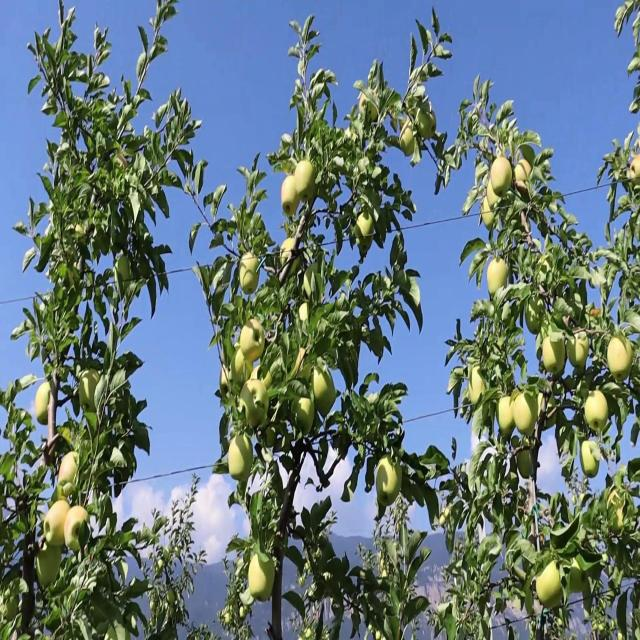apple: (240, 376, 269, 430), (248, 554, 276, 604), (228, 433, 255, 484), (376, 455, 403, 503), (64, 504, 89, 555), (536, 561, 562, 610), (608, 334, 633, 384), (512, 391, 539, 436), (584, 391, 610, 436), (240, 319, 266, 363), (48, 497, 69, 549), (376, 469, 403, 508), (544, 334, 568, 377), (316, 369, 337, 418), (40, 547, 63, 590), (380, 462, 403, 505), (488, 255, 510, 297), (292, 398, 316, 436), (80, 369, 101, 411), (568, 334, 591, 372), (492, 156, 513, 197), (240, 255, 260, 297), (296, 163, 316, 204), (60, 455, 80, 496), (496, 398, 515, 439), (312, 369, 335, 400), (36, 383, 52, 427), (584, 440, 601, 480), (284, 177, 300, 219), (528, 298, 545, 334), (316, 391, 337, 420), (544, 583, 564, 612), (480, 199, 498, 231), (516, 163, 532, 197), (400, 127, 418, 156), (236, 348, 252, 380), (520, 447, 535, 480), (420, 113, 436, 142), (568, 355, 589, 377), (356, 213, 375, 236), (472, 369, 484, 405), (376, 490, 396, 510), (120, 255, 132, 283), (360, 234, 373, 258), (632, 156, 640, 190), (488, 184, 499, 208), (264, 369, 272, 391), (372, 106, 380, 123)
